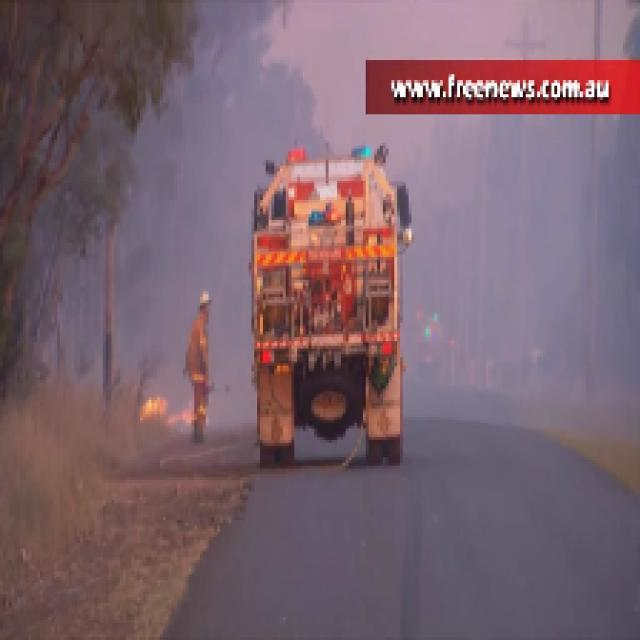Fire: (137, 391, 192, 426)
Smoke: (437, 122, 614, 388), (128, 80, 245, 280)
